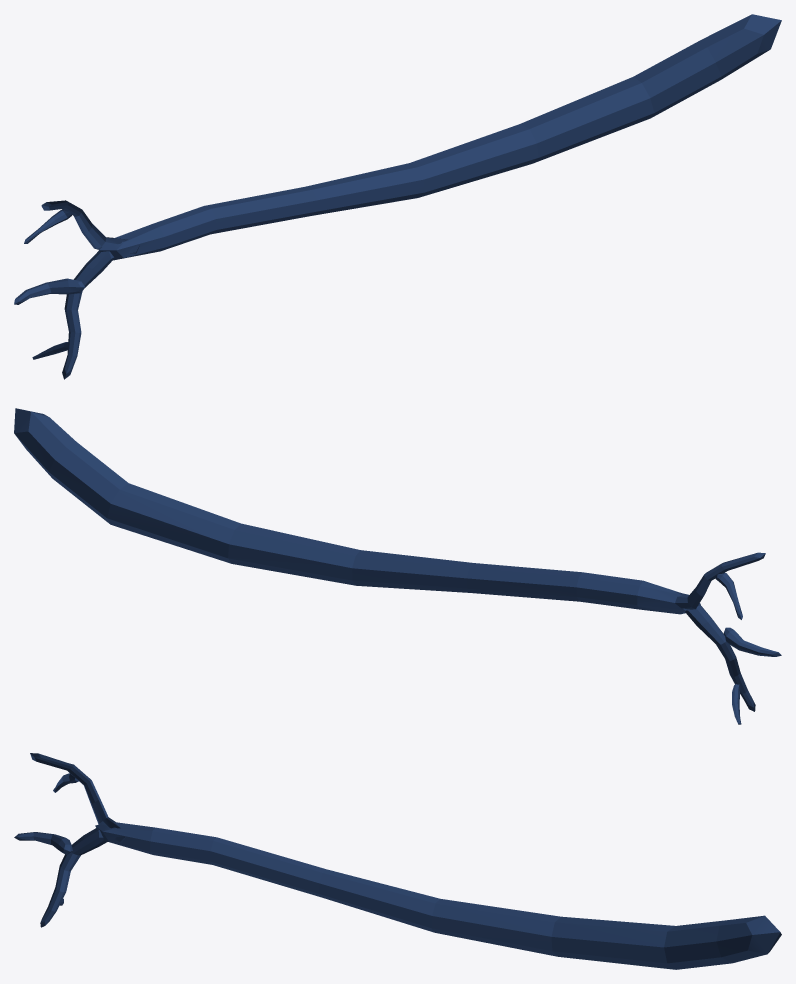
The model's file is VenaEsplenica.FBX.
3 views of the same model, one above another, from view 1: azimuth 30°, elevation 25°; view 2: azimuth 150°, elevation 25°; view 3: azimuth 330°, elevation 25° (orthographic). The views are drawn at different scales.
Parts seen in each view (by area): view 1: CS_Veins; view 2: CS_Veins; view 3: CS_Veins.
Part boxes in pixels (left/top/right/bottom): CS_Veins: left=14, top=14, right=781, bottom=379; CS_Veins: left=14, top=408, right=781, bottom=724; CS_Veins: left=14, top=753, right=781, bottom=969.
Size of the model in its own units: 13.57 by 2.89 by 1.68.
